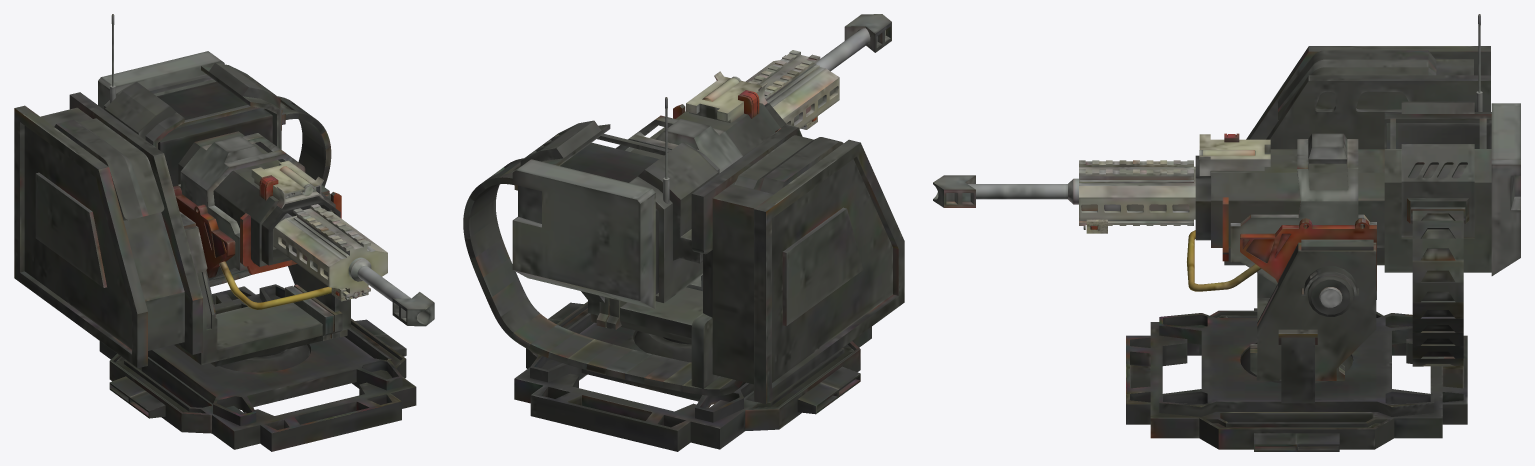
File: automatic_machine_gun.glb
3 views of the same model, side by side, from view 1: azimuth 30°, elevation 25°; view 2: azimuth 150°, elevation 25°; view 3: azimuth 270°, elevation 25° (orthographic). The views are drawn at different scales.
Parts seen in each view (by area): view 1: Cube.029_low, Plane.006_low, Plane.005_low, Cube.026_low, Cube.021_low, Cube.023_low, Cube.018_low, Cube.019_low, Cube.017_low, Cube.024_low, Cube.033_low, Plane.004_low (+8 smaller); view 2: Cube.029_low, Cube.024_low, Plane.006_low, Cube.033_low, Cube.023_low, Cube.021_low, Plane.005_low, Cube.026_low, Cube.018_low, Cube.019_low, Cube.017_low, Cube.030_low (+4 smaller); view 3: Cube.029_low, Plane.006_low, Plane.005_low, Cube.023_low, Cube.026_low, Cube.017_low, Cube.033_low, Cube.021_low, Cube.018_low, Cube.024_low, Plane.004_low, Cube.028_low (+8 smaller).
Part boxes in pixels (left/top/right/bottom): Cube.029_low: left=14, top=92, right=202, bottom=368; Plane.006_low: left=99, top=286, right=416, bottom=451; Plane.005_low: left=148, top=284, right=402, bottom=425; Cube.026_low: left=174, top=185, right=350, bottom=366; Cube.021_low: left=273, top=204, right=387, bottom=297; Cube.023_low: left=104, top=62, right=285, bottom=149; Cube.018_low: left=178, top=133, right=305, bottom=281; Cube.019_low: left=157, top=81, right=272, bottom=186; Cube.017_low: left=178, top=131, right=335, bottom=266; Cube.024_low: left=98, top=51, right=224, bottom=109; Cube.033_low: left=209, top=96, right=331, bottom=286; Plane.004_low: left=173, top=185, right=235, bottom=278; Cube.029_low: left=691, top=124, right=904, bottom=403; Cube.024_low: left=512, top=159, right=655, bottom=309; Plane.006_low: left=514, top=301, right=871, bottom=451; Cube.033_low: left=463, top=158, right=745, bottom=395; Cube.023_low: left=514, top=120, right=719, bottom=302; Cube.021_low: left=745, top=50, right=839, bottom=129; Plane.005_low: left=530, top=322, right=753, bottom=422; Cube.026_low: left=581, top=287, right=702, bottom=343; Cube.018_low: left=616, top=115, right=742, bottom=291; Cube.019_low: left=560, top=142, right=658, bottom=294; Cube.017_low: left=631, top=103, right=780, bottom=158; Cube.030_low: left=686, top=71, right=767, bottom=123; Cube.029_low: left=1224, top=46, right=1490, bottom=265; Plane.006_low: left=1126, top=308, right=1467, bottom=451; Plane.005_low: left=1159, top=313, right=1434, bottom=416; Cube.023_low: left=1384, top=101, right=1491, bottom=272; Cube.026_low: left=1257, top=239, right=1376, bottom=380; Cube.017_low: left=1211, top=149, right=1384, bottom=247; Cube.033_low: left=1412, top=210, right=1463, bottom=366; Cube.021_low: left=1079, top=160, right=1195, bottom=225; Cube.018_low: left=1230, top=133, right=1376, bottom=299; Cube.024_low: left=1491, top=103, right=1520, bottom=275; Plane.004_low: left=1240, top=218, right=1376, bottom=291; Cube.028_low: left=1281, top=337, right=1314, bottom=403.
Size of the model in its own units: 273 by 293 by 454.
1 material, 1 textured.
